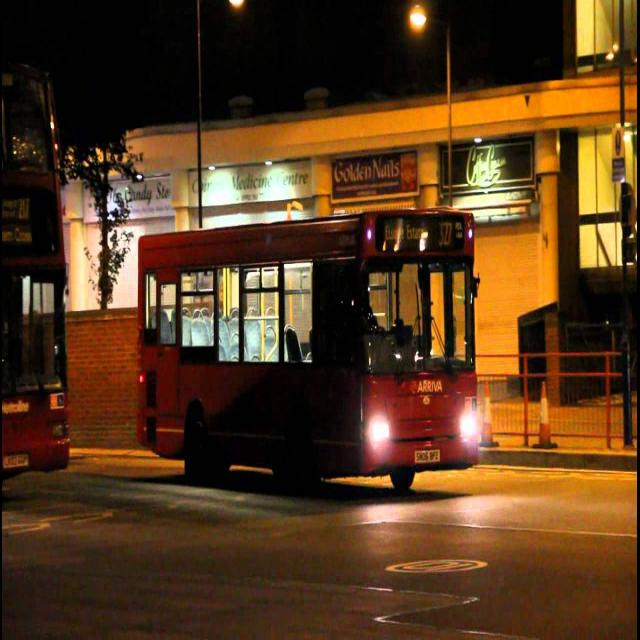Bus: (122, 205, 498, 503), (0, 39, 78, 487)
